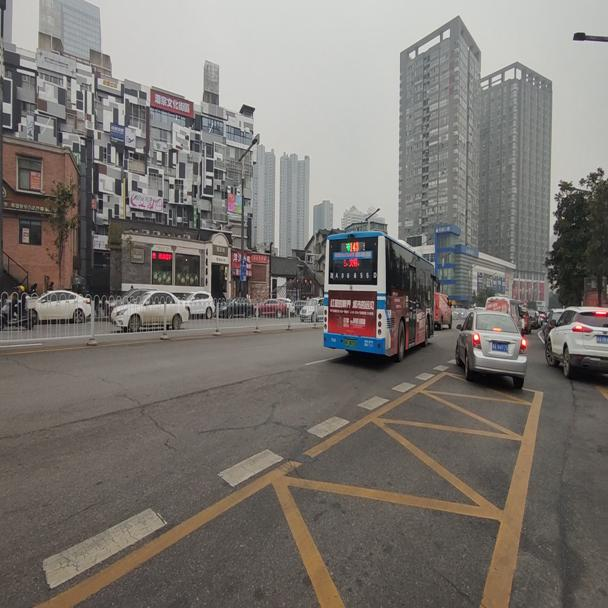bus: (322, 226, 437, 361)
screen: (347, 238, 360, 252)
